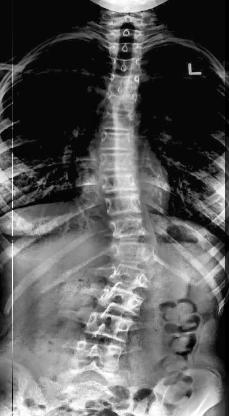Vertebrae: (72, 338, 124, 374), (96, 282, 146, 318), (83, 310, 131, 344), (105, 259, 155, 291), (106, 214, 156, 244), (109, 238, 157, 268), (101, 190, 149, 218), (98, 168, 142, 196), (96, 129, 138, 153), (100, 112, 140, 134), (96, 150, 136, 172), (107, 54, 144, 76), (105, 92, 139, 114), (108, 73, 143, 93), (107, 40, 145, 58), (110, 14, 146, 30), (108, 28, 144, 42)
